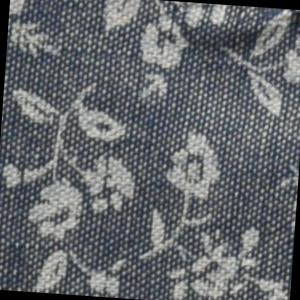Damage: (159, 1, 300, 39)
